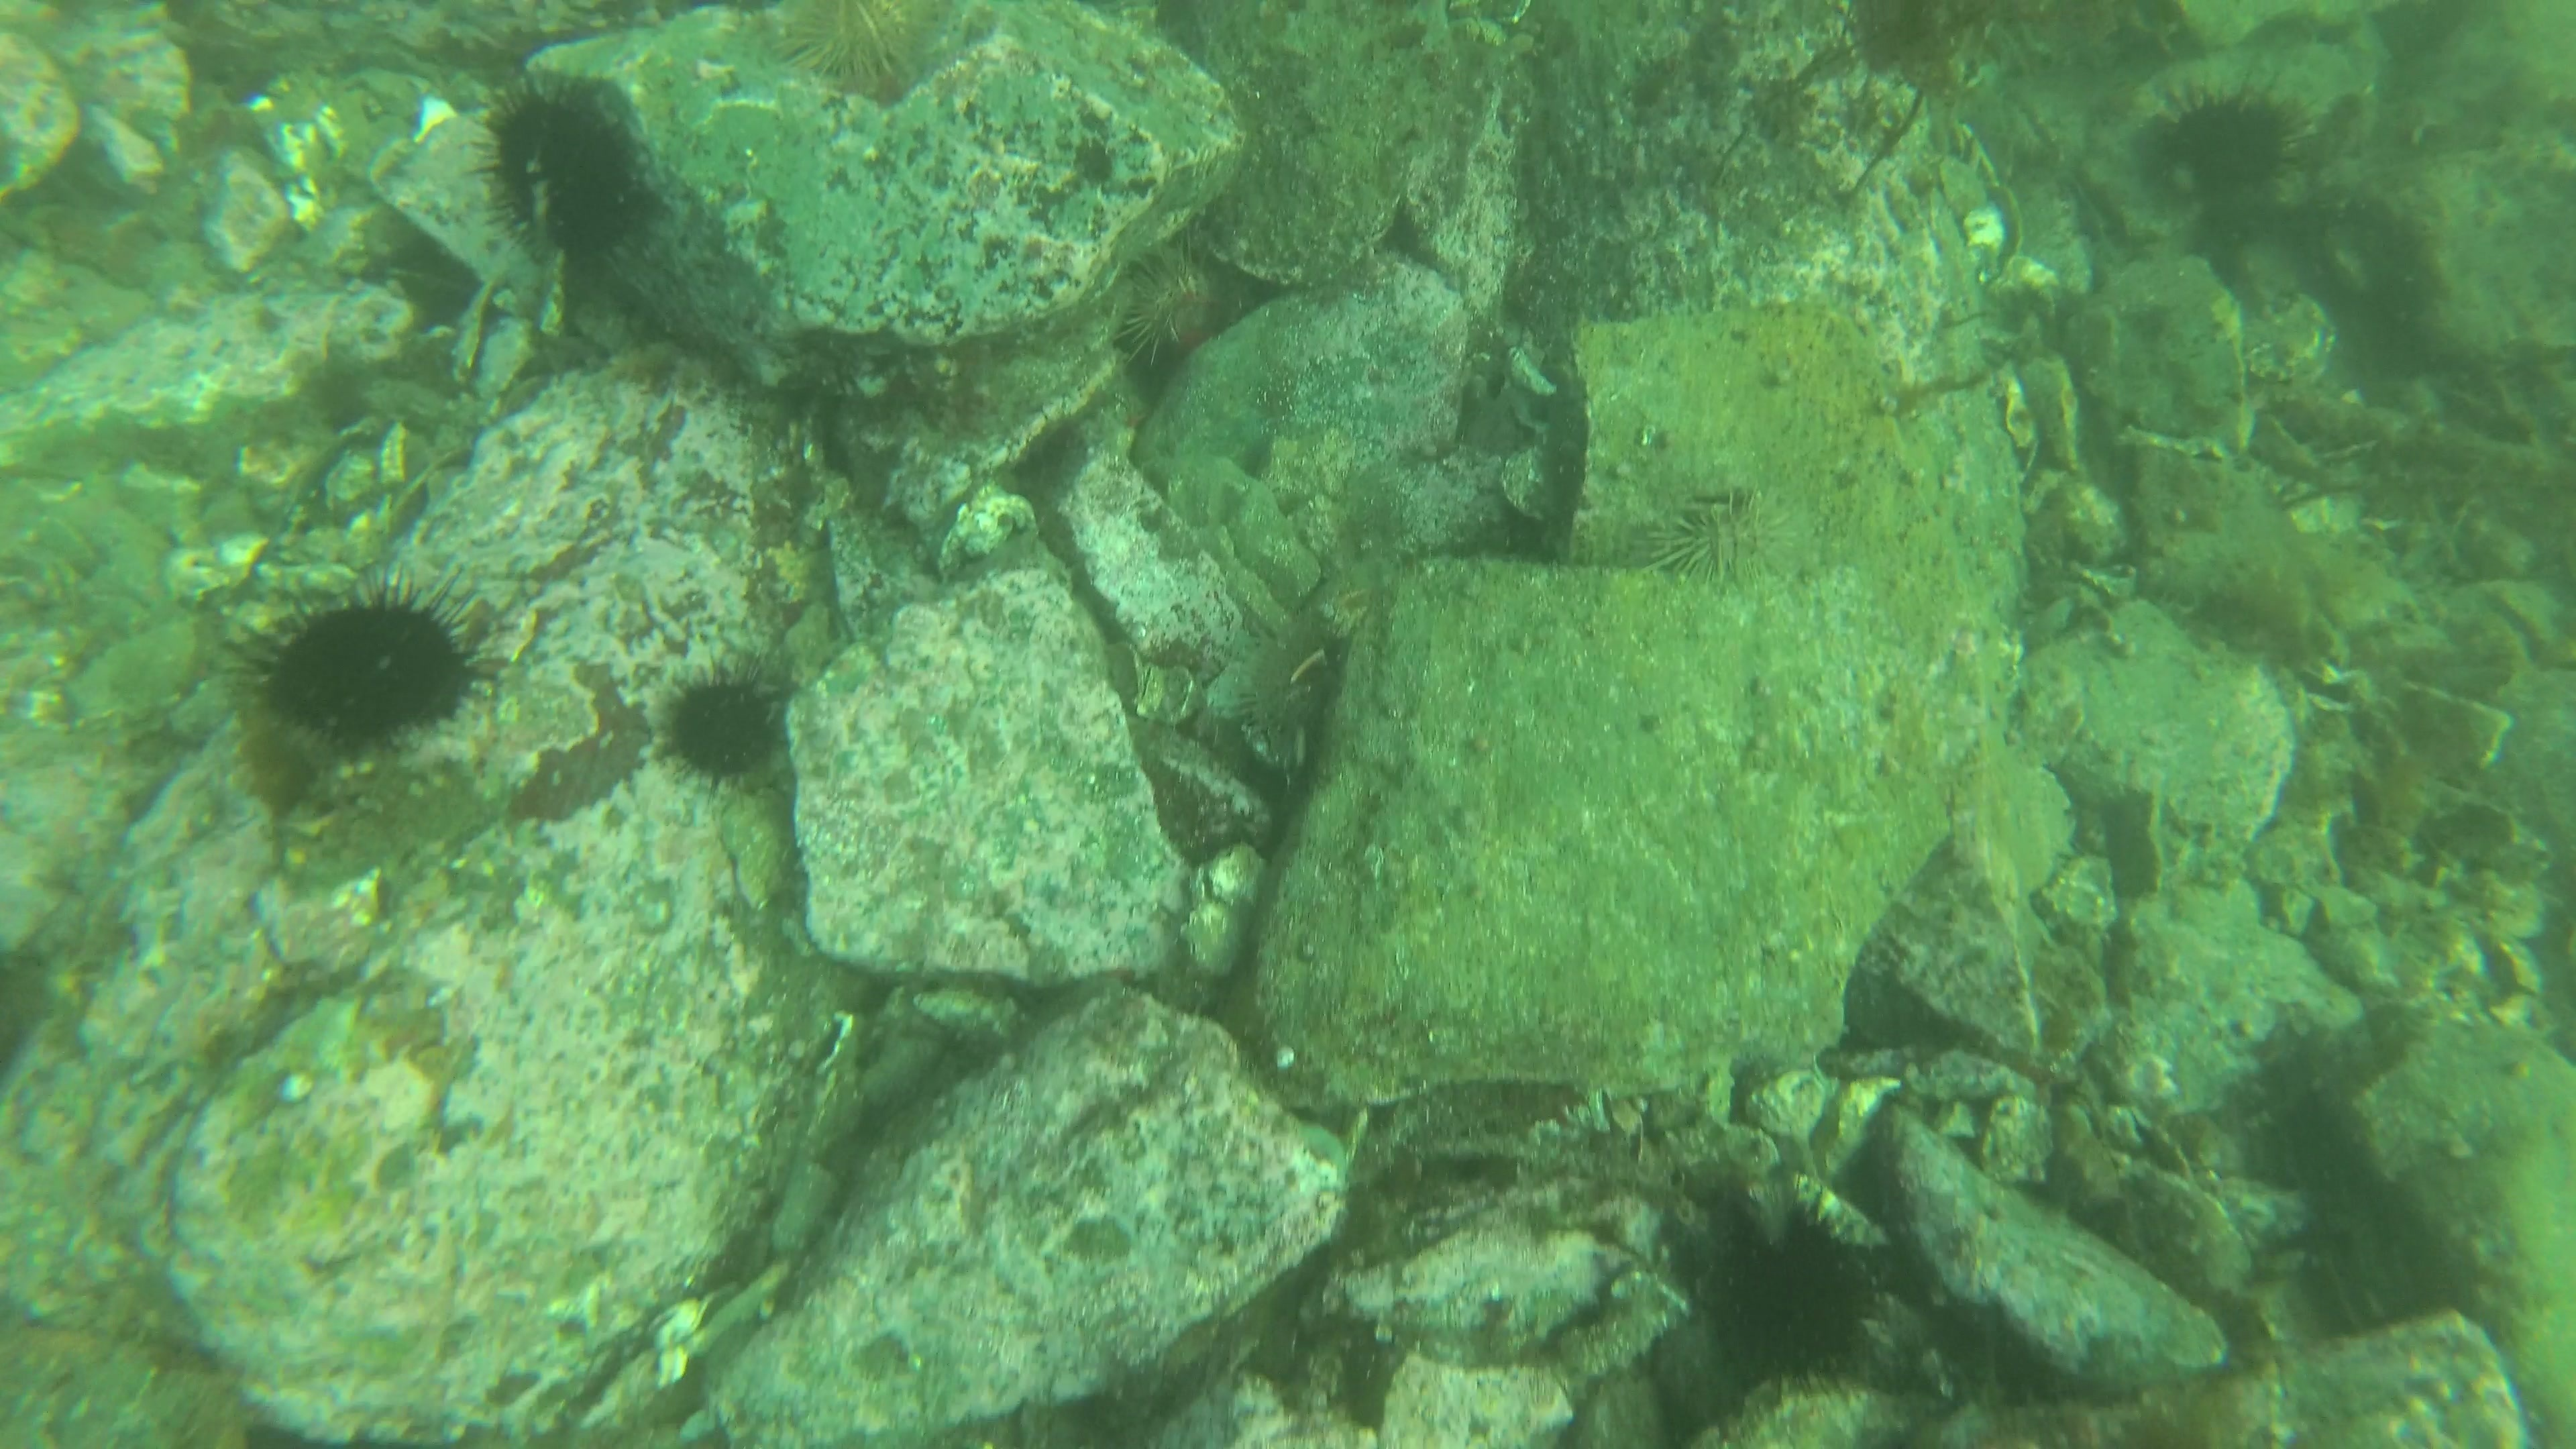echinus: (241, 573, 488, 757), (1691, 1185, 1895, 1394), (469, 74, 658, 278), (2134, 74, 2309, 212), (1644, 479, 1822, 602), (1226, 609, 1357, 771), (1102, 241, 1240, 384), (651, 660, 794, 791), (766, 2, 950, 97)
